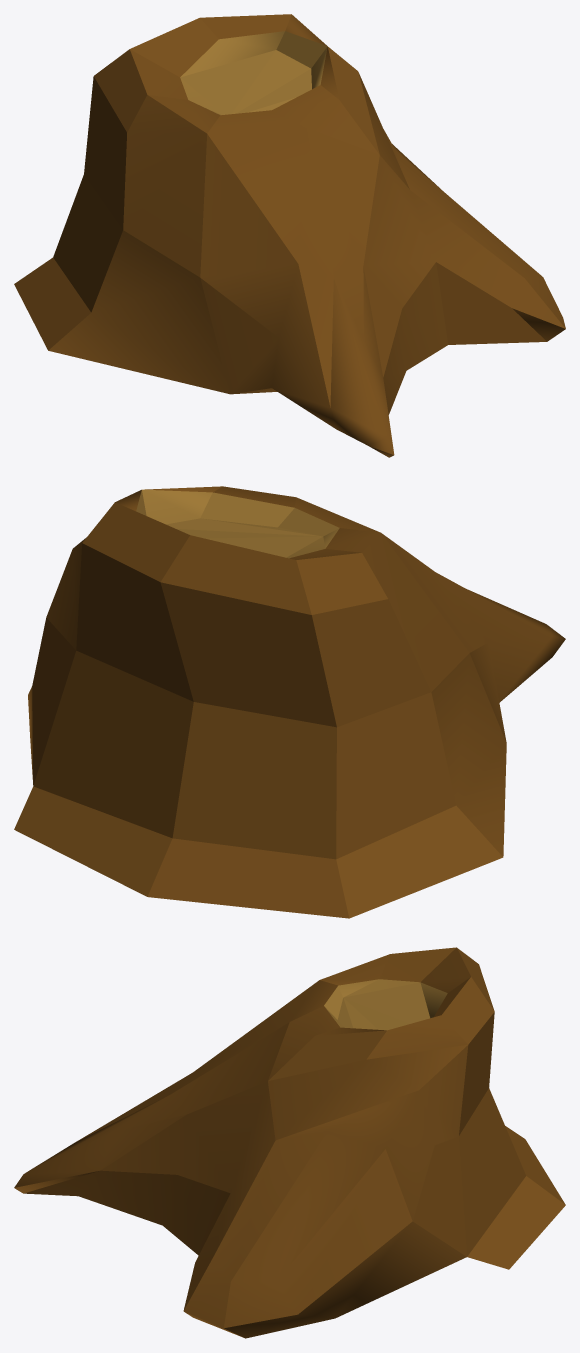
Rendered from Log3.fbx.
3 views of the same model, one above another, from view 1: azimuth 30°, elevation 25°; view 2: azimuth 150°, elevation 25°; view 3: azimuth 270°, elevation 25° (orthographic). The views are drawn at different scales.
Visible parts, largest first — view 1: Log_3; view 2: Log_3; view 3: Log_3.
Boxes of the visible parts, x1,y1,x2,y2 form: Log_3: (14,14,565,457); Log_3: (14,486,565,918); Log_3: (14,947,565,1338).
Size of the model in its own units: 171 by 105 by 201.
